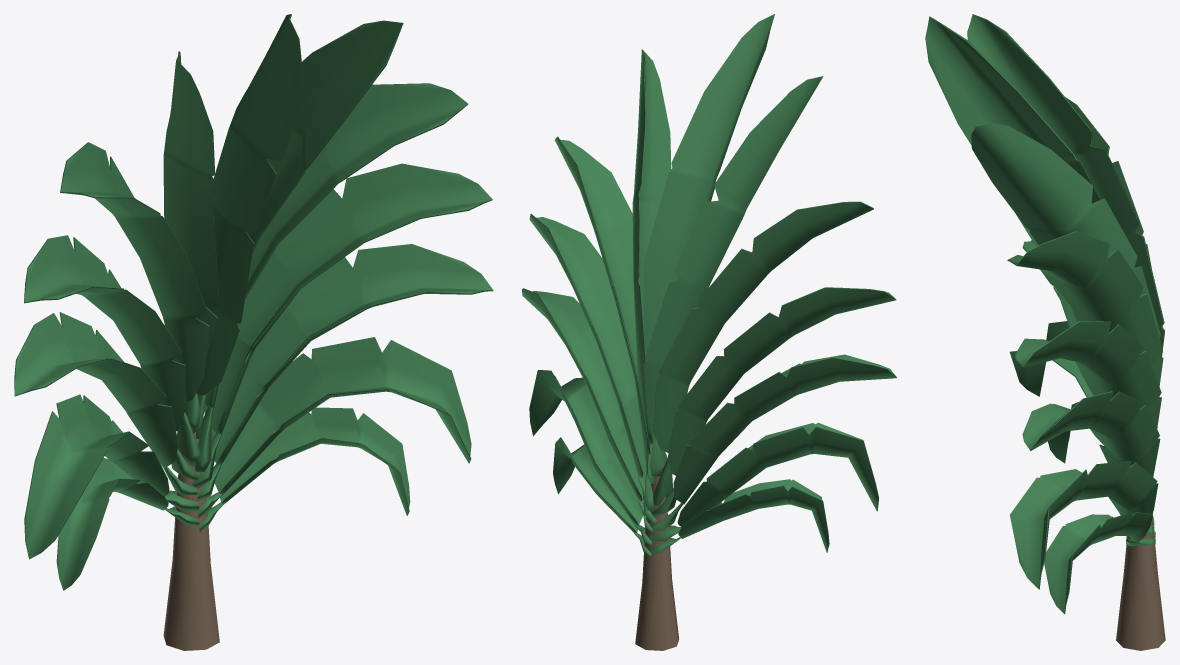
File: tropical_small02.fbx
The picture shows the model from 3 angles, left to right: view 1: azimuth 30°, elevation 25°; view 2: azimuth 150°, elevation 25°; view 3: azimuth 270°, elevation 25°; orthographic projection. The views are drawn at different scales.
Parts seen in each view (by area): view 1: tropical_small02; view 2: tropical_small02; view 3: tropical_small02.
Boxes of the visible parts, <box> form: tropical_small02: <box>14,14,493,650</box>; tropical_small02: <box>522,14,896,650</box>; tropical_small02: <box>925,14,1165,650</box>.
Size of the model in its own units: 0.1457 by 0.2088 by 0.0742.
